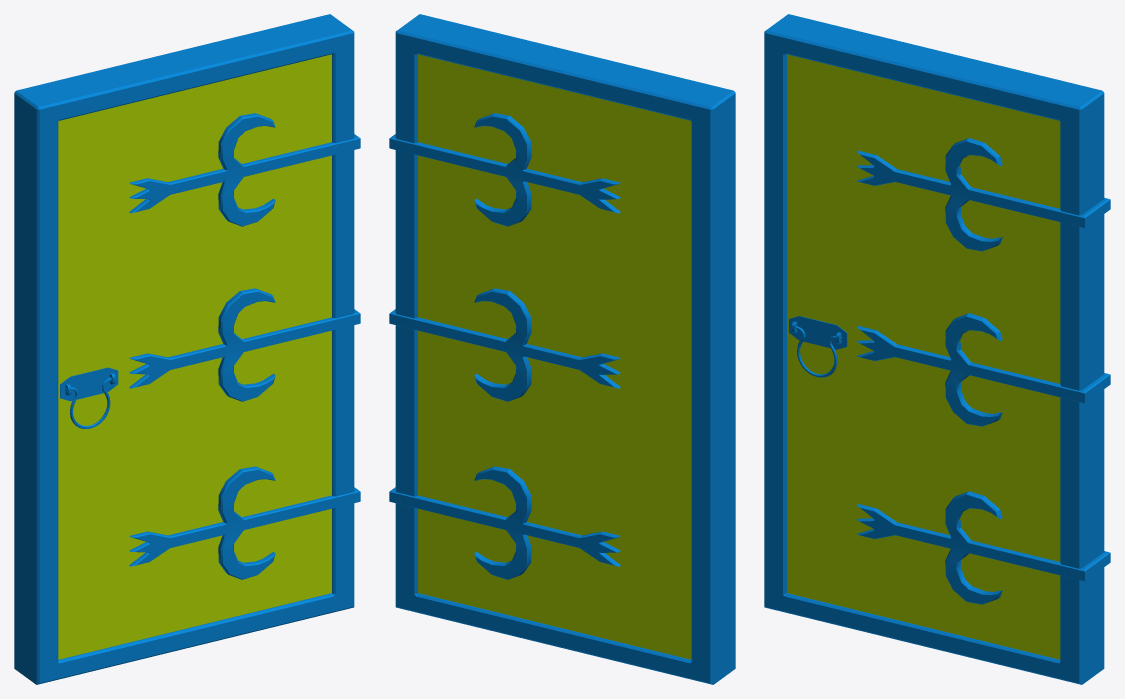
Rendered from Door.FBX.
3 renders of one model, left to right at view 1: azimuth 30°, elevation 25°; view 2: azimuth 150°, elevation 25°; view 3: azimuth 330°, elevation 25°, orthographic.
Visible parts, largest first — view 1: Box037; view 2: Box037; view 3: Box037.
Part boxes in pixels (left/top/right/bottom): Box037: left=14, top=14, right=360, bottom=684; Box037: left=389, top=14, right=735, bottom=684; Box037: left=764, top=14, right=1110, bottom=684.
Size of the model in its own units: 513 by 878 by 74.04.
